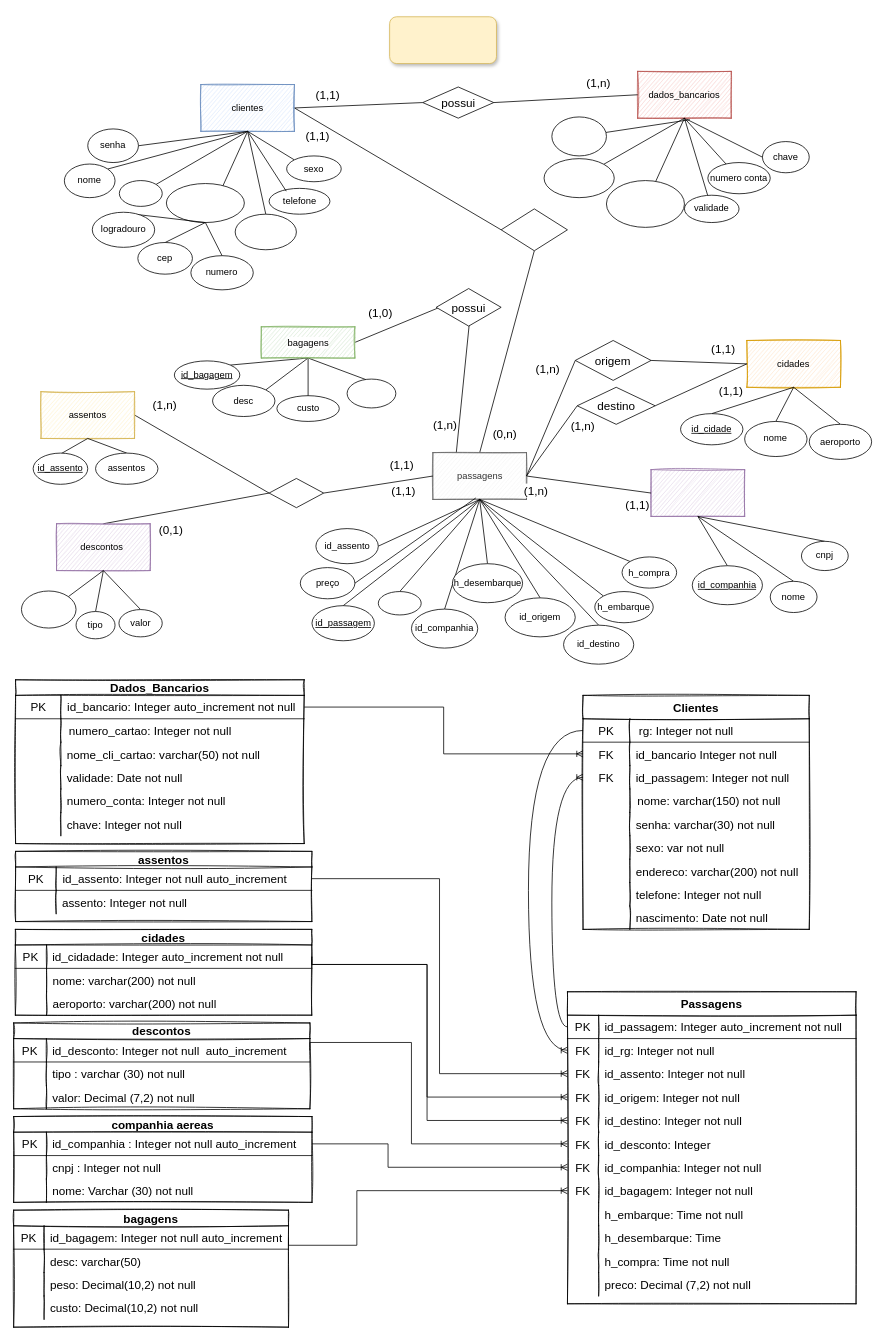
Some shapes in this 885 by 1341 pixel diagram are drawn without their labels. Each missing label, with the centre of its shape:
companhias_aereas: pixel 697 492
compra: pixel 533 229
endereço: pixel 205 203
id_bancario: pixel 578 136
id_desconto: pixel 48 609
id_rg: pixel 399 603
MER-DER Conceitual: pixel 443 41
nascimento: pixel 265 231
nome_cli_bancario: pixel 645 203
numero_cartao: pixel 578 178
peso: pixel 371 393
rg: pixel 140 193
tem: pixel 296 493
